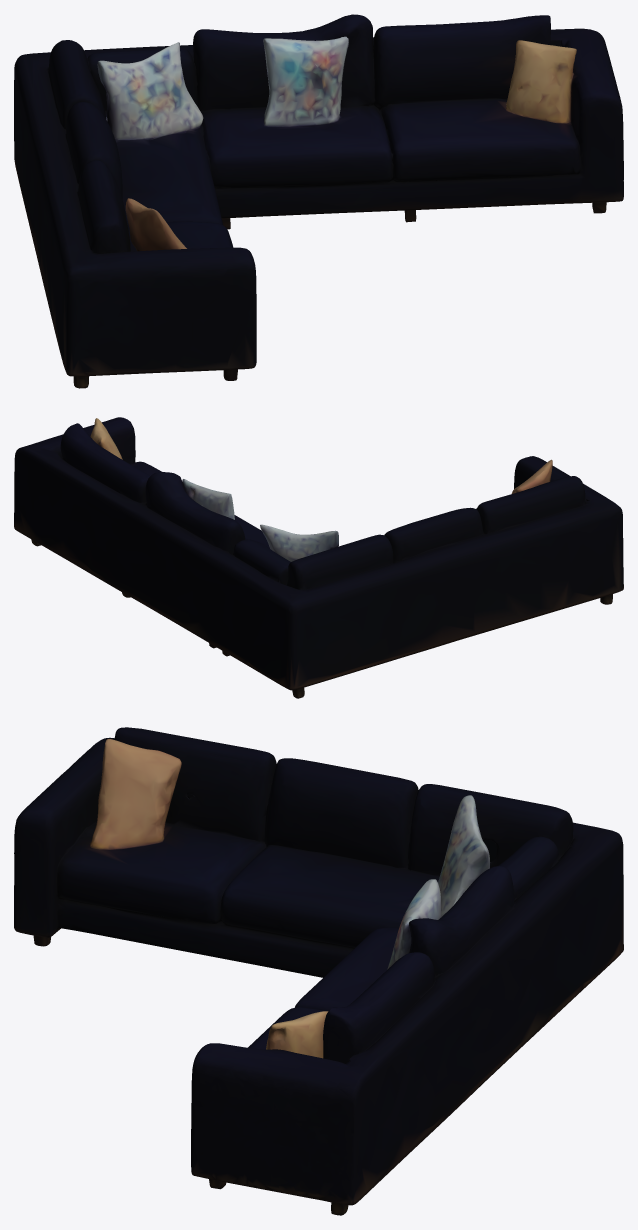
3 views of the same model, one above another, from view 1: azimuth 30°, elevation 25°; view 2: azimuth 150°, elevation 25°; view 3: azimuth 270°, elevation 25° (orthographic). The views are drawn at different scales.
Visible parts, largest first — view 1: instance_0026; view 2: instance_0026; view 3: instance_0026.
Part boxes in pixels (x1=…): instance_0026: x1=14, y1=14, x2=623, y2=388; instance_0026: x1=14, y1=417, x2=623, y2=698; instance_0026: x1=14, y1=727, x2=623, y2=1215.
Size of the model in its own units: 6.88 by 1.67 by 5.
